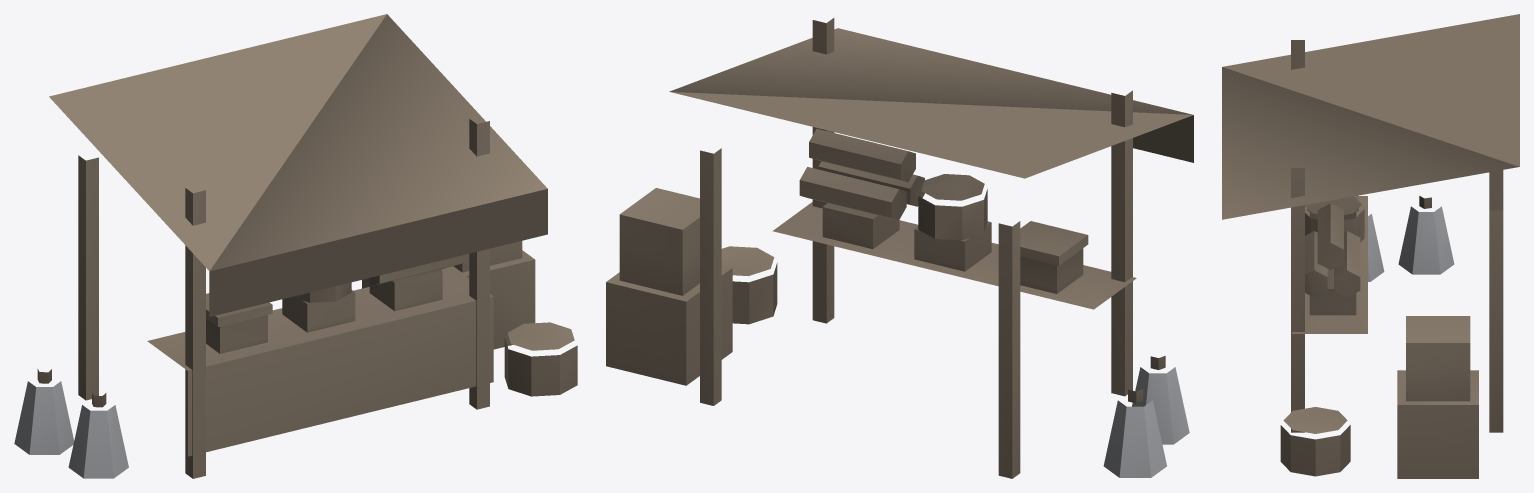
Rendered from sg_stall.glb.
3 views of the same model, side by side, from view 1: azimuth 30°, elevation 25°; view 2: azimuth 150°, elevation 25°; view 3: azimuth 270°, elevation 25° (orthographic). The views are drawn at different scales.
Parts seen in each view (by area): view 1: sg_stall_SG_Joinery, sg_stall_SG_Stone; view 2: sg_stall_SG_Joinery, sg_stall_SG_Stone; view 3: sg_stall_SG_Joinery, sg_stall_SG_Stone.
Part boxes in pixels (<box>): sg_stall_SG_Joinery: <box>37,14,577,478</box>; sg_stall_SG_Stone: <box>14,381,128,478</box>; sg_stall_SG_Joinery: <box>606,18,1193,478</box>; sg_stall_SG_Stone: <box>1103,367,1189,477</box>; sg_stall_SG_Joinery: <box>1222,14,1519,478</box>; sg_stall_SG_Stone: <box>1368,206,1454,281</box>.
Size of the model in its own units: 4.56 by 2.6 by 2.55.
